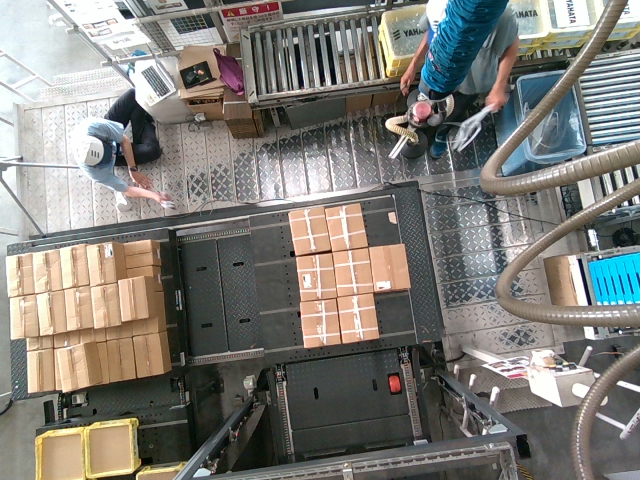box: (286, 206, 330, 255), (324, 203, 368, 252), (293, 251, 337, 300), (330, 245, 374, 294), (295, 299, 339, 348), (337, 296, 381, 345), (367, 243, 411, 292)
